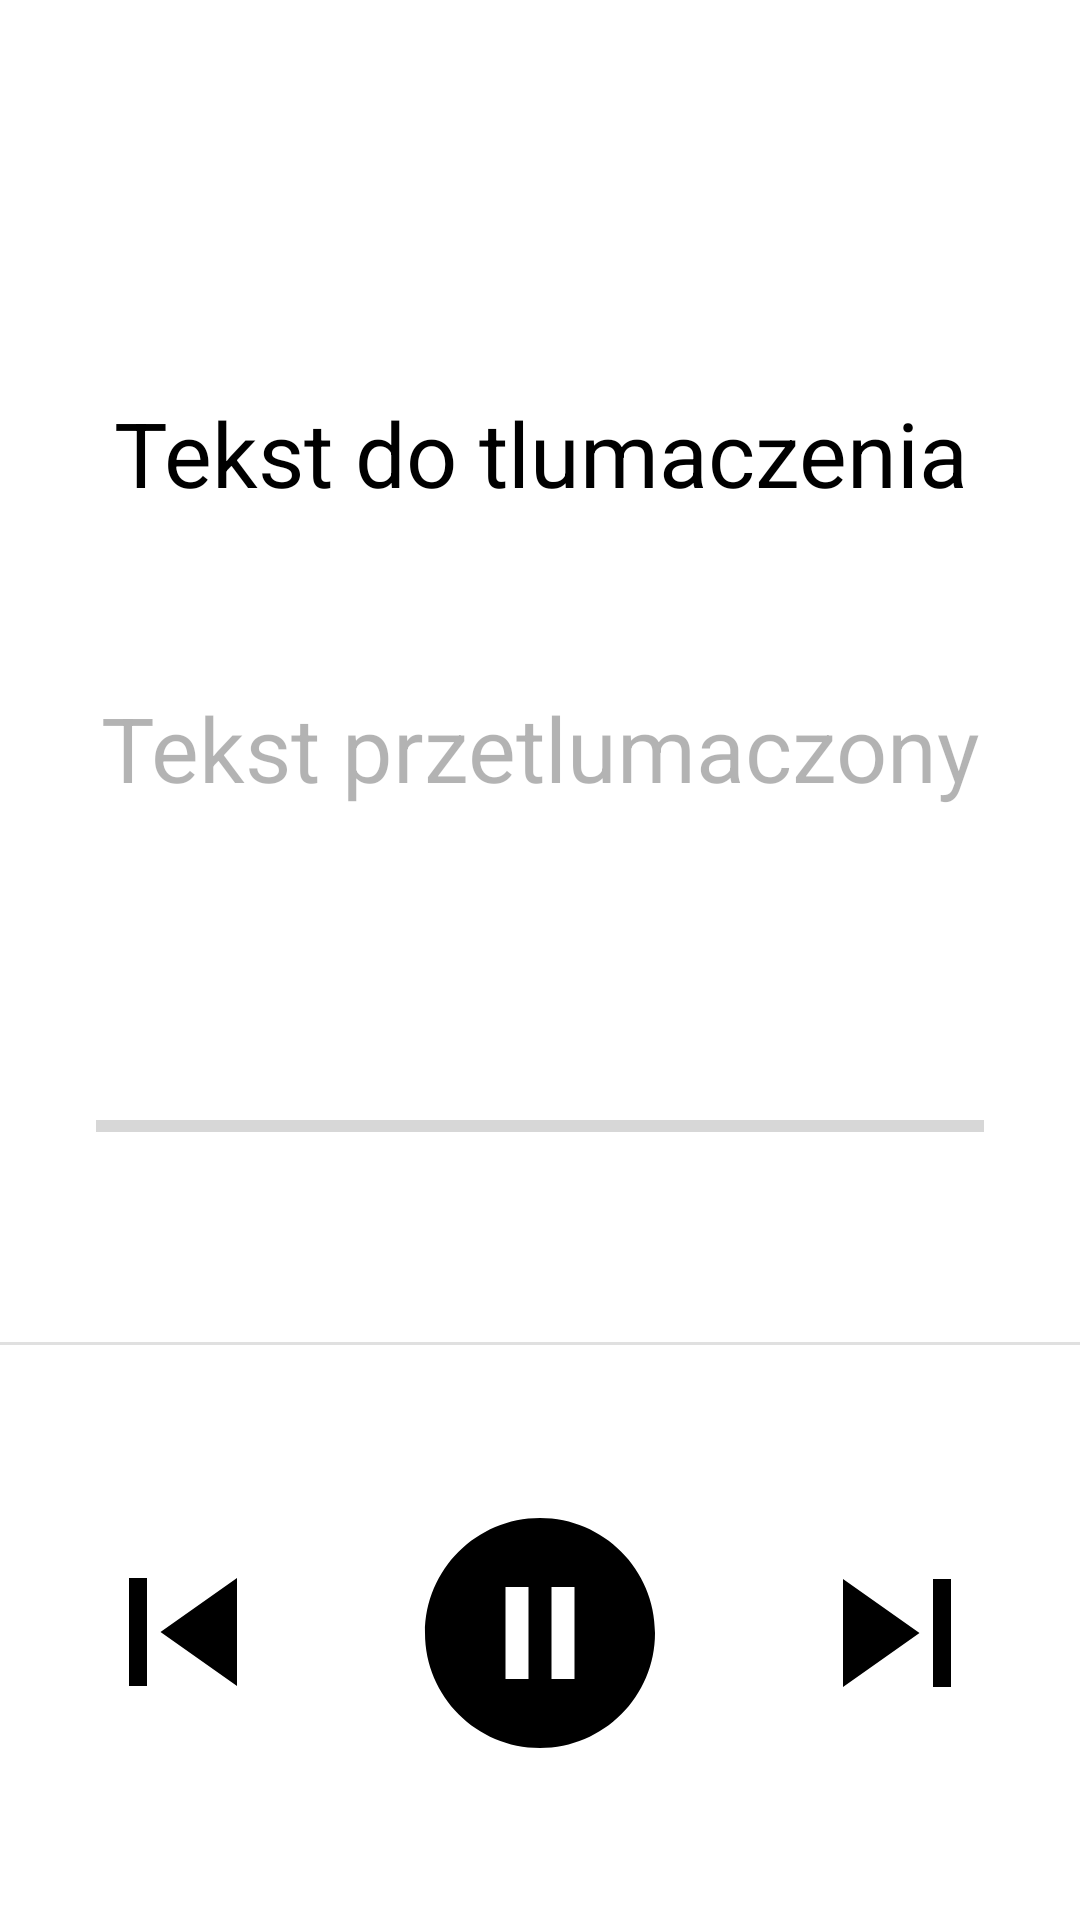

Icons on this 1080*1920 Android screen, each with its box as (left=x1, top=y1, right=x2, bottom=y2):
pause circle: (left=425, top=1518, right=655, bottom=1748)
